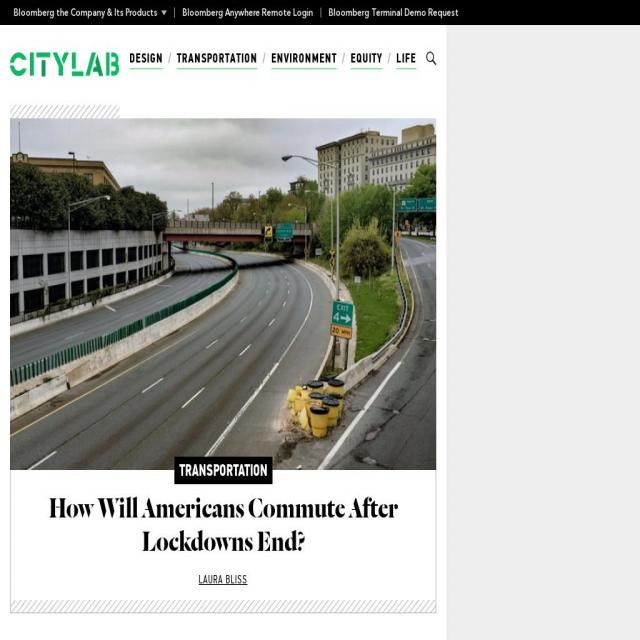navigation-links: (4, 2, 440, 85)
search: (418, 42, 448, 78)
